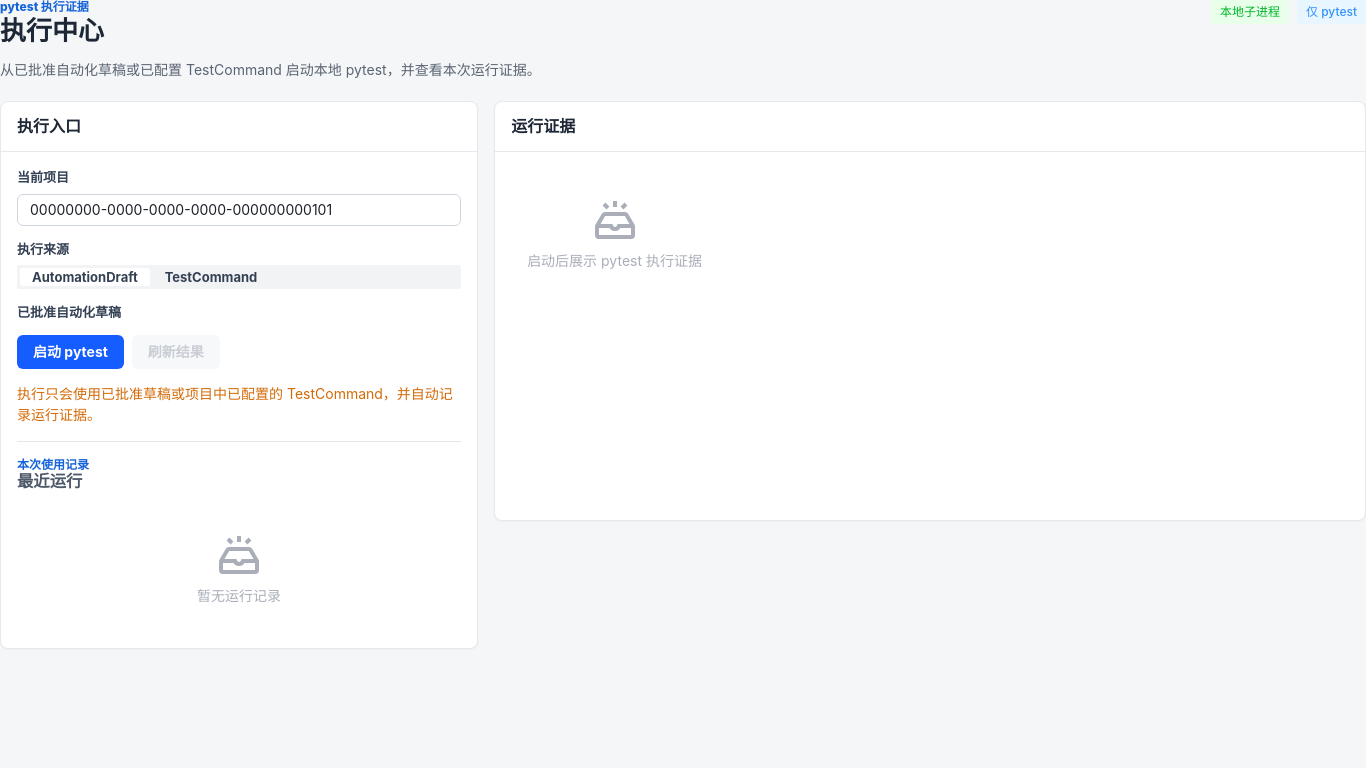
Scenario: PytestExecutionView › starts and refreshes a pytest run with evidence details
expect the label "已批准自动化草稿" holds "00000000-0000-0000-0000-000000001001": met, box [17,304,121,320]
Submit the form, box [17,168,461,425]
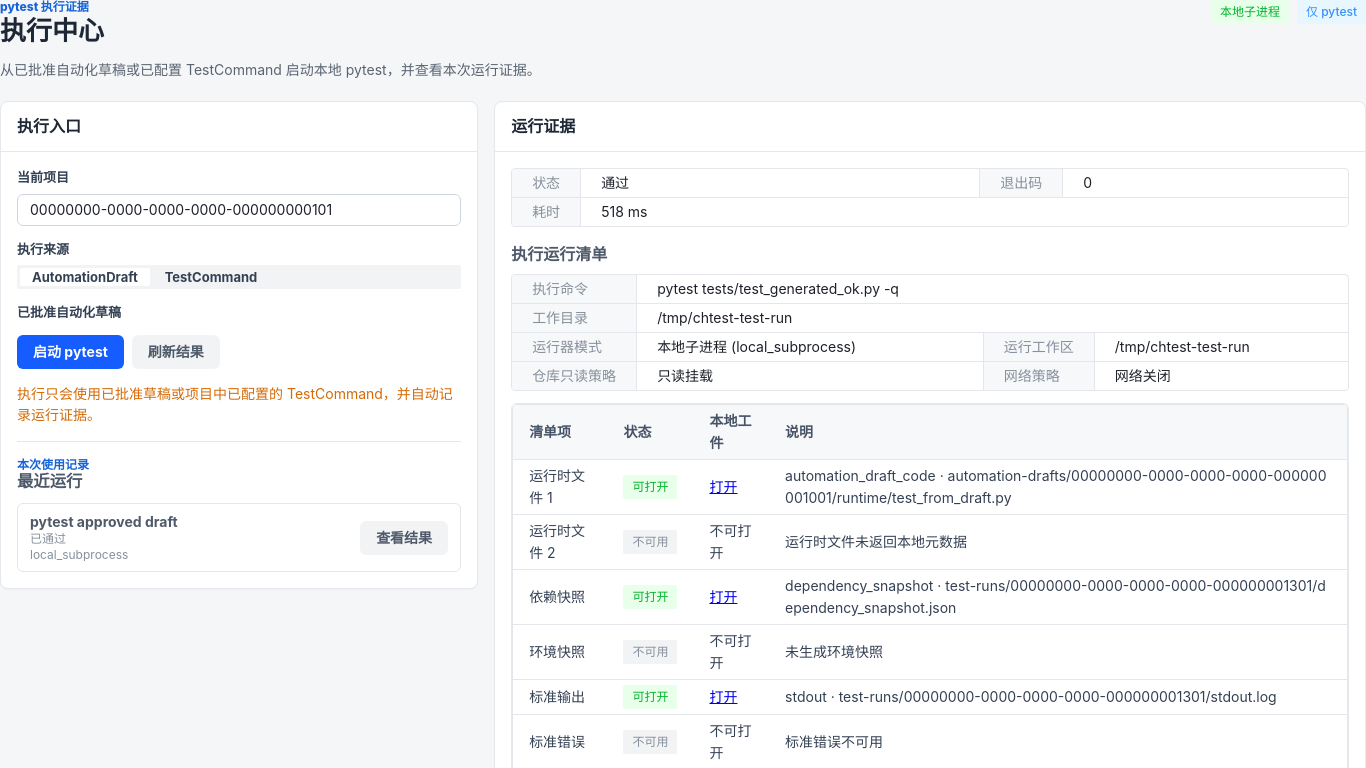
expect the text "pytest tests/test_generated_ok.py -q" is shown: met, box [637,275,1348,303]
expect the text "/tmp/chtest-test-run" is shown: met, box [637,303,1348,332]
expect the text "local_subprocess" is shown: met, box [30,547,128,562]
Click the button with test id "refresh-run" at (176, 352), box [132,335,220,369]
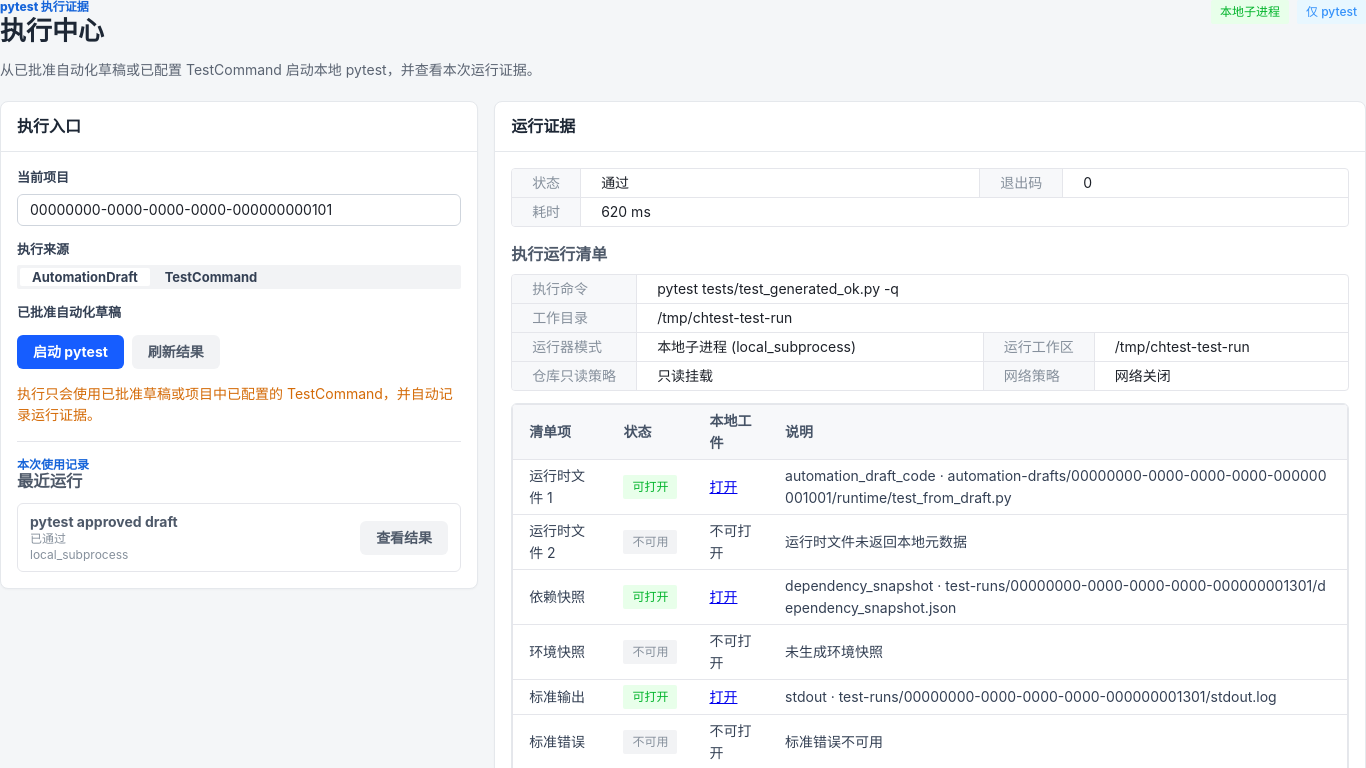
expect the text "620 ms" is shown: met, box [581,198,1348,226]
